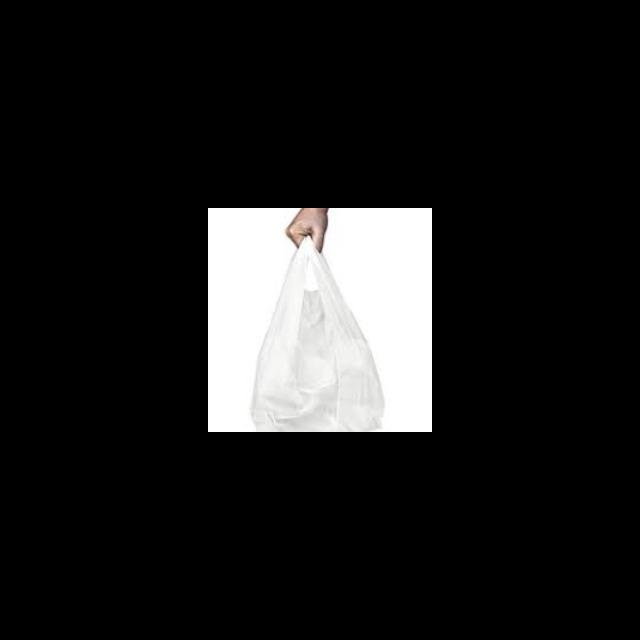plastic: (247, 219, 387, 432)
